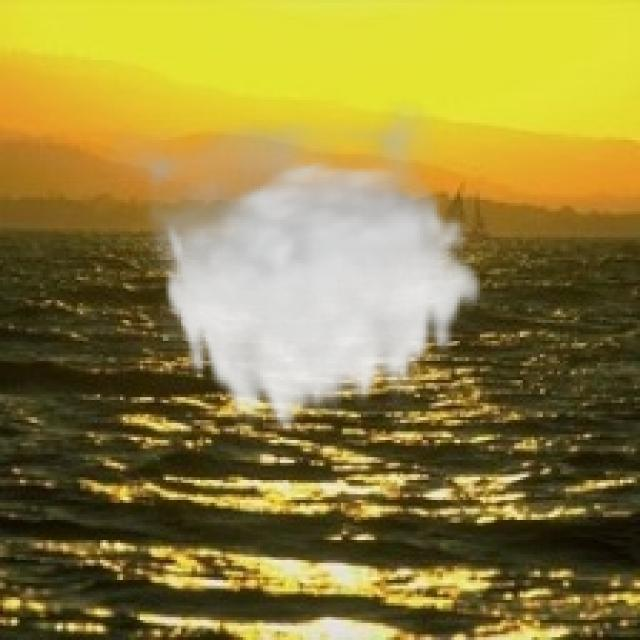smoke: (94, 94, 486, 440)
